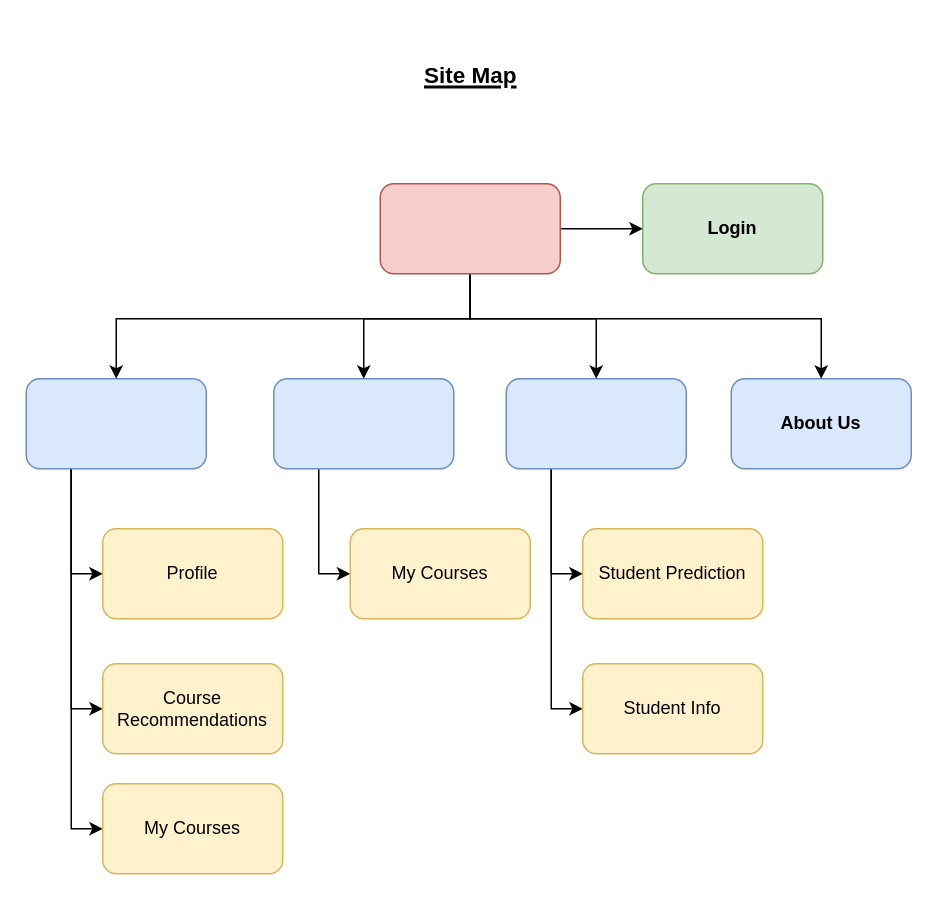
Some shapes in this 938 by 900 pixel diagram are drawn without their labels. Here are the shapes that lost their labels. From the top down, the box of each, then its label:
(379, 182, 560, 274): Home
(25, 377, 206, 469): Student
(272, 377, 454, 469): Teacher
(505, 377, 686, 469): Curriculum Committee
